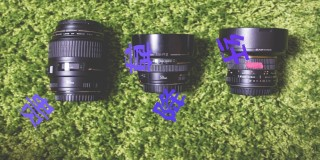尊: (123, 41, 156, 75)
纤: (217, 32, 250, 66)
贵: (22, 94, 54, 127)
降: (151, 89, 186, 125)
